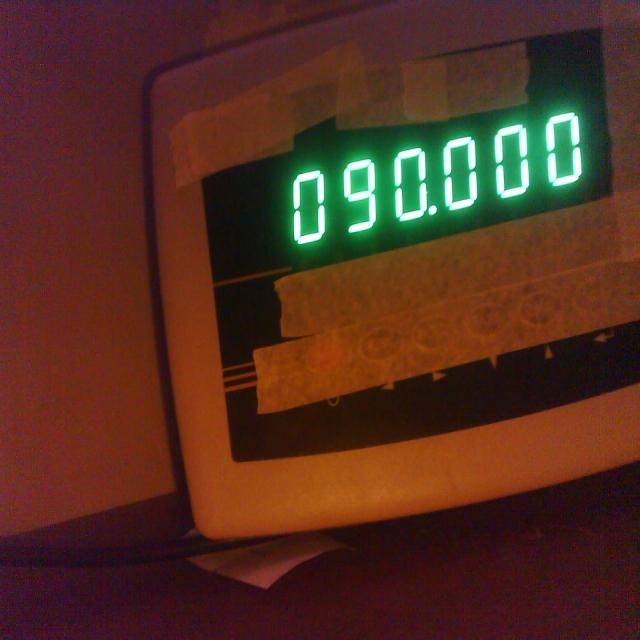.: (428, 196, 438, 228)
0: (289, 155, 329, 264), (544, 98, 584, 204), (441, 123, 479, 230), (391, 130, 430, 234), (492, 114, 530, 213)
9: (341, 140, 380, 246)
